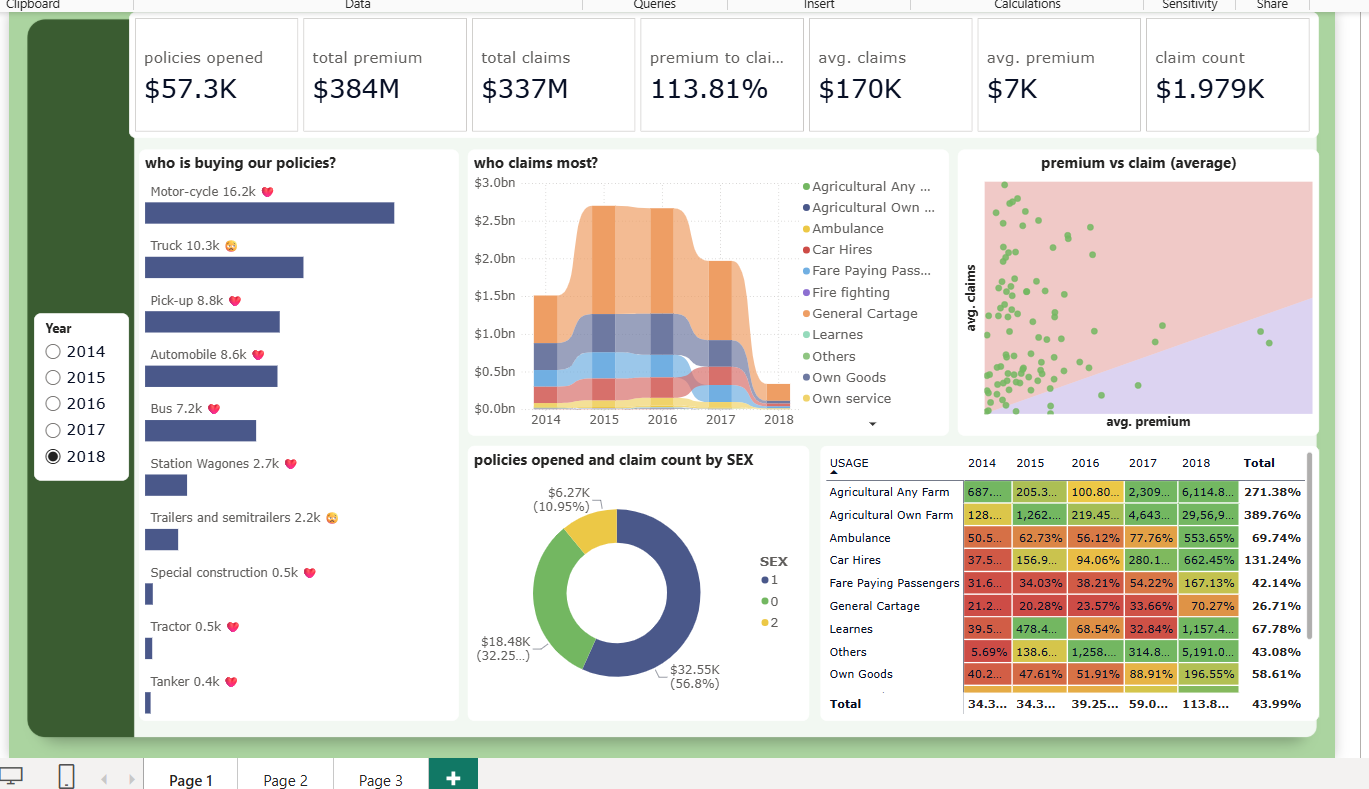

What the dashboard file says about the page in this screenshot:
{"tool":"powerbi","page":{"name":"Page 1","canvas":[1920,1080],"ordinal":0},"visuals":[{"type":"cardVisual","fields":{"Data":["policies.policies opened","policies.total premium","policies.total claims","policies.premium to claim ratio","policies.avg. claims","policies.avg. premium","policies.claim count"]},"box":[173.7,0,1722.8,182.8],"z":0},{"type":"slicer","fields":{"Values":["calendar.Year"]},"box":[36.2,436.1,137.5,242.5],"z":1000},{"type":"clusteredBarChart","title":"who is buying our policies?","fields":{"Category":["policies.TYPE_VEHICLE"],"Y":["policies.dummy series","policies.policies opened"]},"box":[188.2,199.1,463.3,827],"z":2000},{"type":"ribbonChart","title":"who claims most?","fields":{"Category":["calendar.Year"],"Y":["policies.total claims"],"Series":["policies.USAGE"]},"box":[664.1,199.1,696.7,414.4],"z":3000},{"type":"donutChart","fields":{"Category":["policies.SEX"],"Y":["policies.policies opened"]},"box":[664.1,628,494,398.1],"z":4000},{"type":"scatterChart","title":"premium vs claim (average)","fields":{"X":["policies.avg. premium"],"Y":["policies.avg. claims"],"Category":["policies.TYPE_VEHICLE","policies.MAKE"]},"box":[1373.5,199.1,523,414.4],"z":5000},{"type":"pivotTable","fields":{"Rows":["policies.USAGE"],"Columns":["calendar.Year"],"Values":["policies.premium to claim ratio"]},"box":[1174.5,628,722.1,398.1],"z":5001}]}

Visuals, with their boxes on the page's 1920x1080 design canvas (x1, y1, x2, y2). These are canvas units, not pixel positions in the 1369x789 screenshot, which may show the page scaled, cropped or inside an application window:
cardVisual - policies.policies opened x policies.total premium: l=174, t=0, r=1896, b=183
slicer - calendar.Year: l=36, t=436, r=174, b=679
"who is buying our policies?" clusteredBarChart: l=188, t=199, r=652, b=1026
"who claims most?" ribbonChart: l=664, t=199, r=1361, b=614
donutChart - policies.SEX x policies.policies opened: l=664, t=628, r=1158, b=1026
"premium vs claim (average)" scatterChart: l=1374, t=199, r=1896, b=614
pivotTable - policies.USAGE x calendar.Year: l=1174, t=628, r=1897, b=1026
